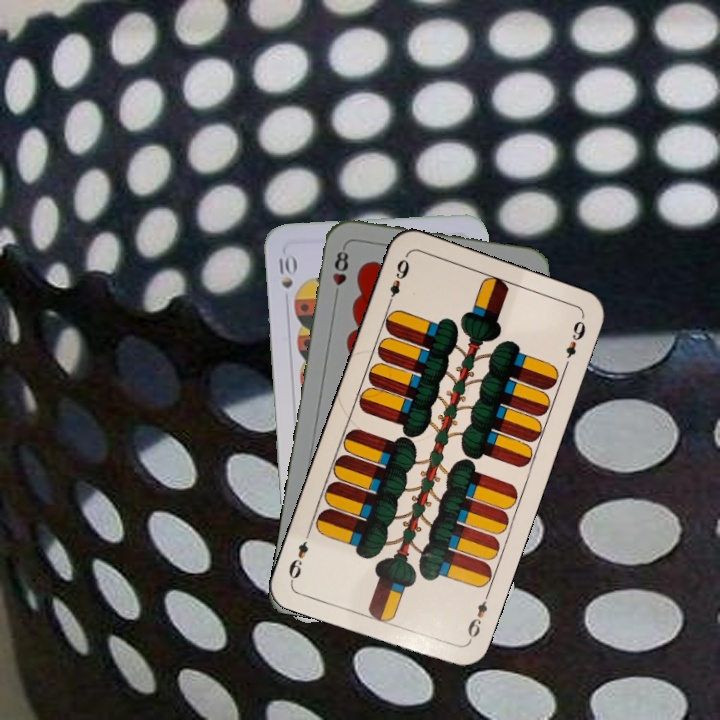E9: (463, 589, 492, 646), (383, 255, 412, 310)
H8: (328, 243, 351, 302)
S10: (275, 253, 297, 291)
